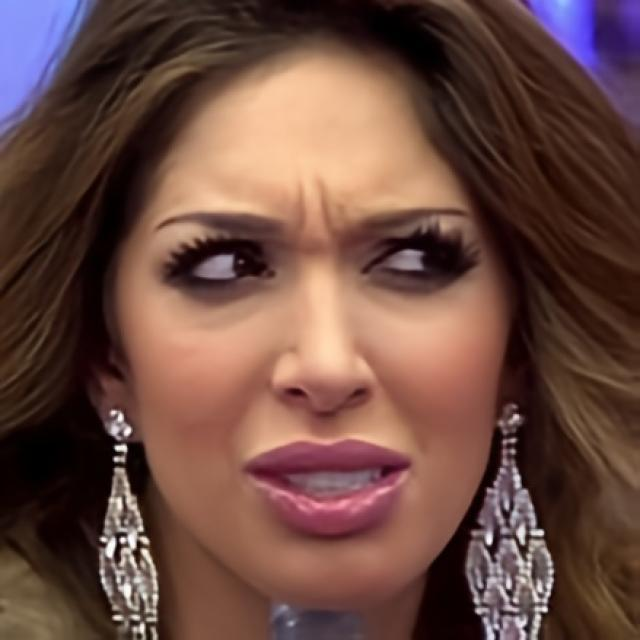disgust: (110, 27, 514, 611)
